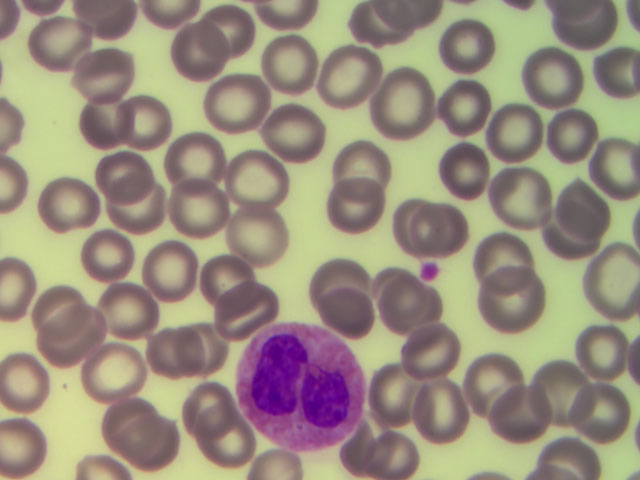Platelets: (238, 324, 373, 449), (415, 255, 441, 278)
RBC: (435, 16, 497, 74), (365, 422, 425, 480), (27, 17, 87, 74), (76, 44, 136, 101), (75, 85, 135, 142), (121, 96, 181, 153), (156, 31, 216, 88), (190, 3, 250, 60), (258, 30, 318, 87), (213, 72, 273, 129), (268, 108, 328, 165), (319, 42, 379, 99), (375, 73, 435, 130), (439, 76, 499, 133), (342, 2, 402, 59), (524, 46, 584, 103), (541, 101, 601, 158), (490, 104, 550, 161), (426, 137, 486, 194), (487, 165, 547, 222), (579, 137, 639, 194), (548, 177, 608, 234), (539, 210, 599, 267), (471, 234, 531, 291), (490, 272, 550, 329), (580, 246, 640, 303), (580, 322, 640, 379), (573, 378, 633, 435), (523, 362, 583, 419), (494, 392, 554, 449), (466, 357, 526, 414), (408, 387, 468, 444), (371, 368, 431, 425), (411, 327, 471, 384), (379, 291, 439, 348), (363, 261, 423, 318), (312, 278, 372, 335), (310, 255, 370, 312), (315, 184, 375, 241), (333, 143, 393, 200), (386, 197, 446, 254), (406, 201, 466, 258), (227, 211, 287, 268), (225, 163, 285, 220), (163, 131, 223, 188), (168, 186, 228, 243), (140, 242, 200, 299), (209, 248, 269, 305), (222, 286, 282, 343), (182, 316, 242, 373), (151, 323, 211, 380), (166, 364, 226, 421), (194, 408, 254, 465), (130, 420, 190, 477), (88, 393, 148, 450), (78, 351, 138, 408), (43, 310, 103, 367), (26, 288, 86, 345), (94, 285, 154, 342), (77, 227, 137, 284), (31, 177, 91, 234), (90, 187, 150, 244), (86, 146, 146, 203), (2, 418, 62, 475), (1, 352, 60, 409)
